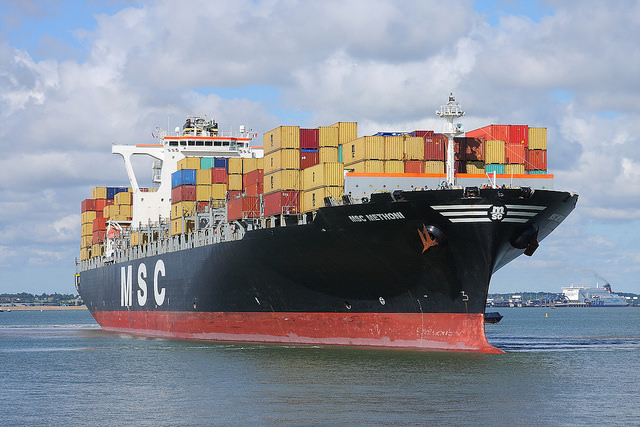container_ship: (77, 95, 574, 357)
cruise_ship: (563, 281, 626, 307)
